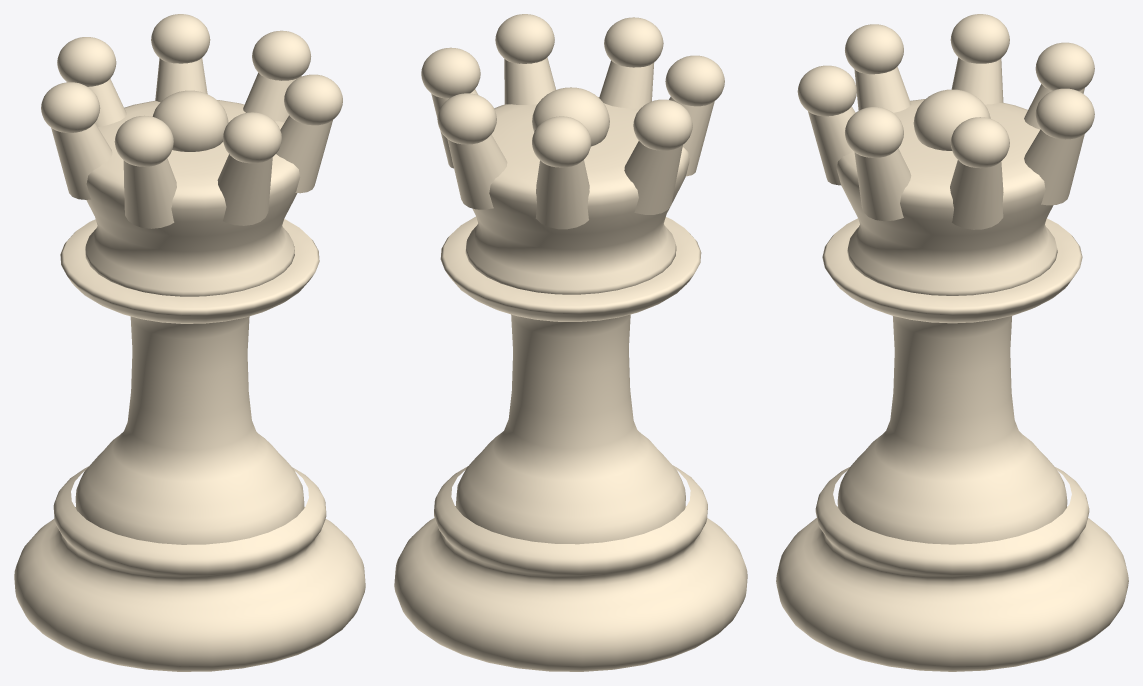
Rendered from queen.glb.
3 renders of one model, left to right at view 1: azimuth 30°, elevation 25°; view 2: azimuth 150°, elevation 25°; view 3: azimuth 270°, elevation 25°, orthographic.
Visible parts, largest first — view 1: queen-ivory-porcelain; view 2: queen-ivory-porcelain; view 3: queen-ivory-porcelain.
Boxes of the visible parts, x1=… form: queen-ivory-porcelain: x1=14, y1=14, x2=365, y2=671; queen-ivory-porcelain: x1=394, y1=14, x2=747, y2=671; queen-ivory-porcelain: x1=776, y1=14, x2=1128, y2=671.
Bounding box in the file's own units: 0.6542 × 1.11 × 0.6542.
